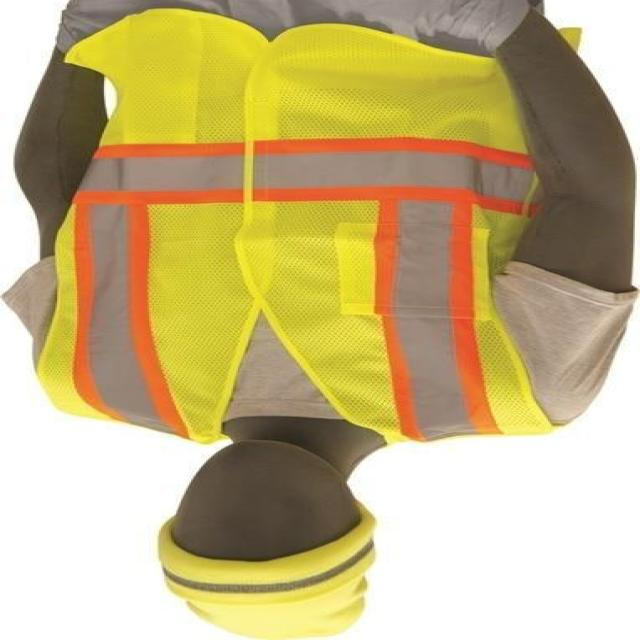jacket: (21, 21, 626, 473)
